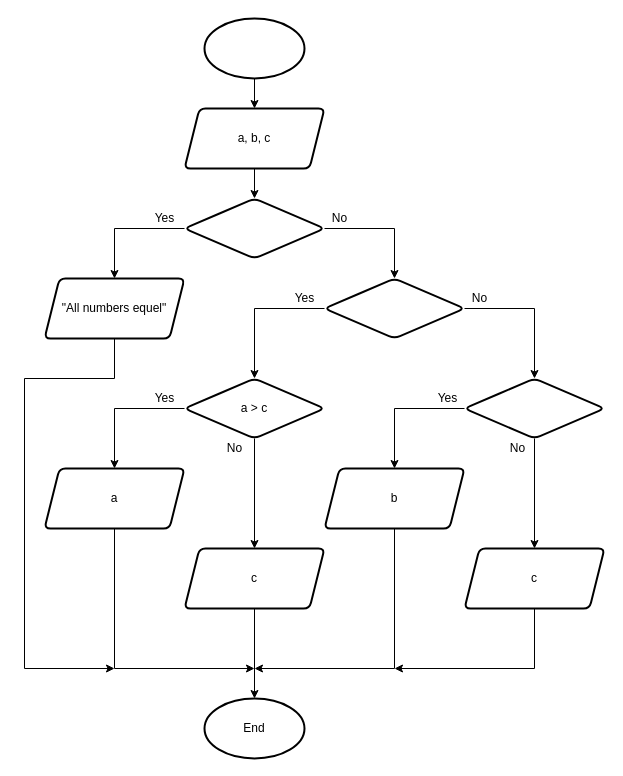
Image size: 623x776. Some labels were removed from this diagram. The box of each missing label's shape, as (x1, y1, x2, y2) in pixels:
a == b == c: (183, 197, 325, 259)
a > b: (323, 277, 465, 339)
b > c: (463, 377, 605, 439)
Start: (203, 17, 305, 79)
